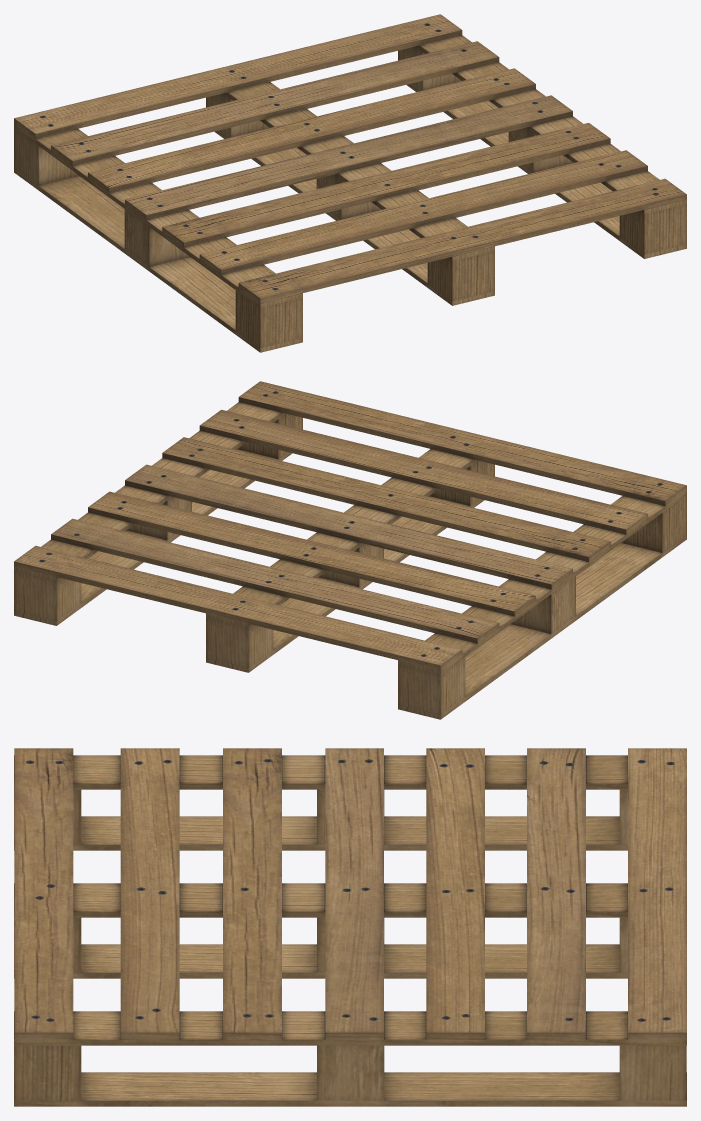
The model's file is palet_eski_a.gltf.
The picture shows the model from 3 angles, top to bottom: view 1: azimuth 30°, elevation 25°; view 2: azimuth 150°, elevation 25°; view 3: azimuth 270°, elevation 25°; orthographic projection. The views are drawn at different scales.
Parts seen in each view (by area): view 1: palet_eski_a; view 2: palet_eski_a; view 3: palet_eski_a.
Part boxes in pixels (left/top/right/bottom): palet_eski_a: left=14, top=14, right=686, bottom=352; palet_eski_a: left=14, top=381, right=686, bottom=719; palet_eski_a: left=14, top=748, right=686, bottom=1106.
Size of what is drawn, in the model's own units: 1.2 by 0.1457 by 1.2.
1 material, 1 textured.
